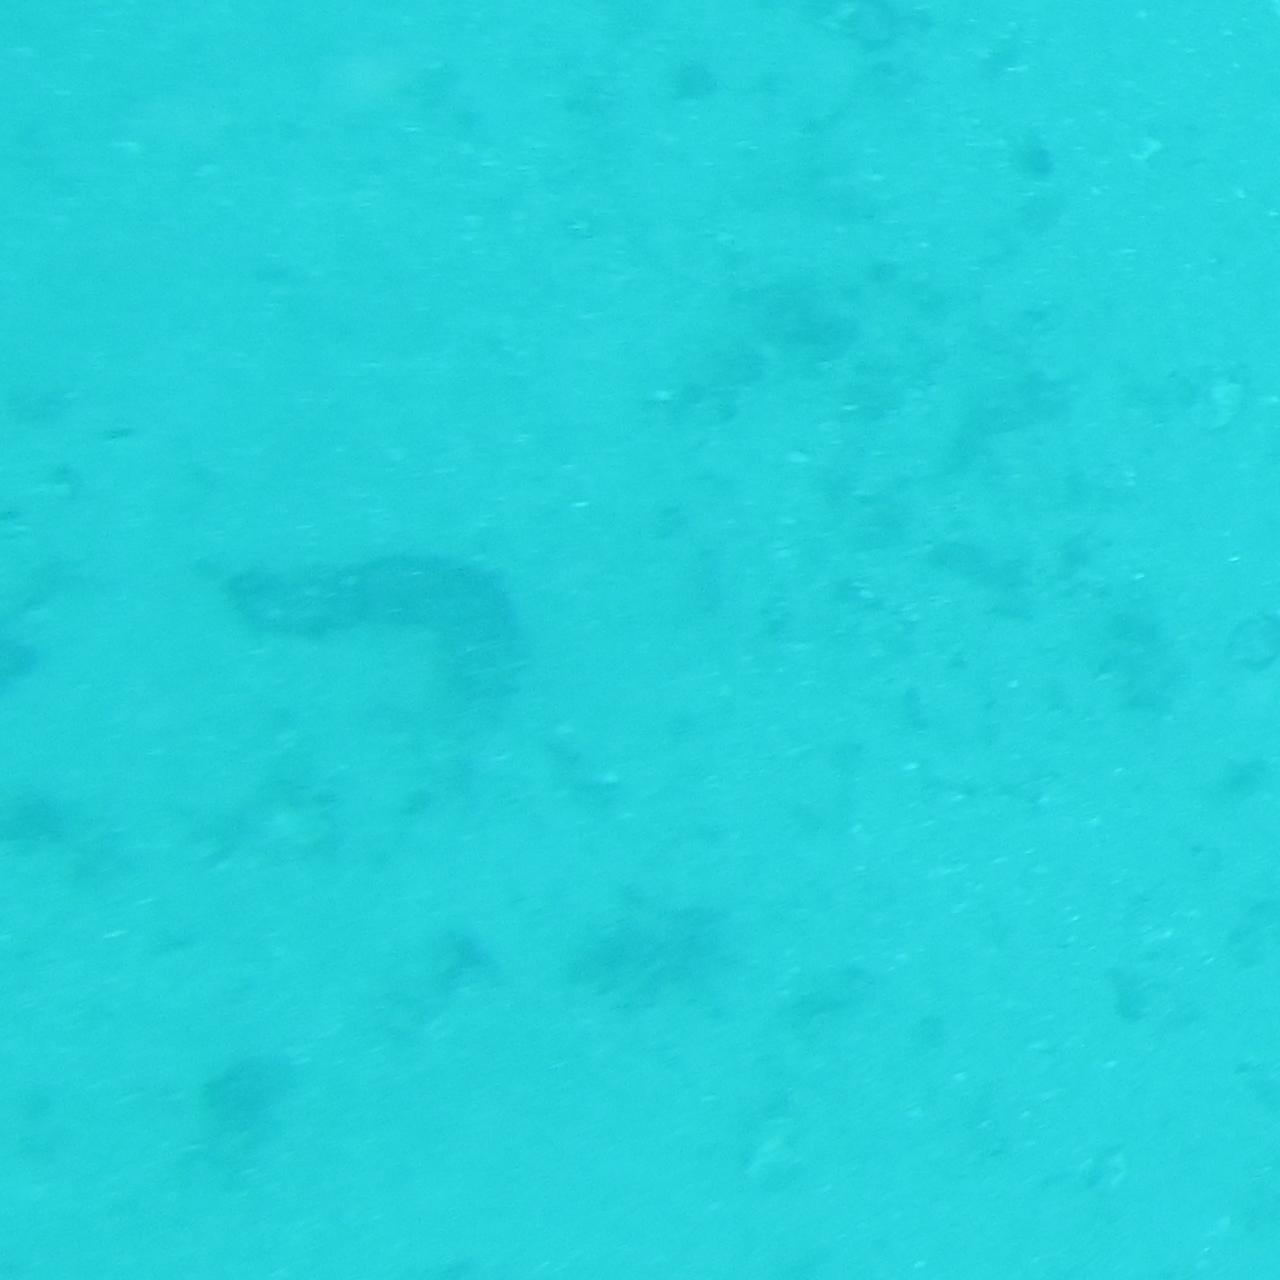Holothuria tubulosa: (215, 536, 531, 744)
